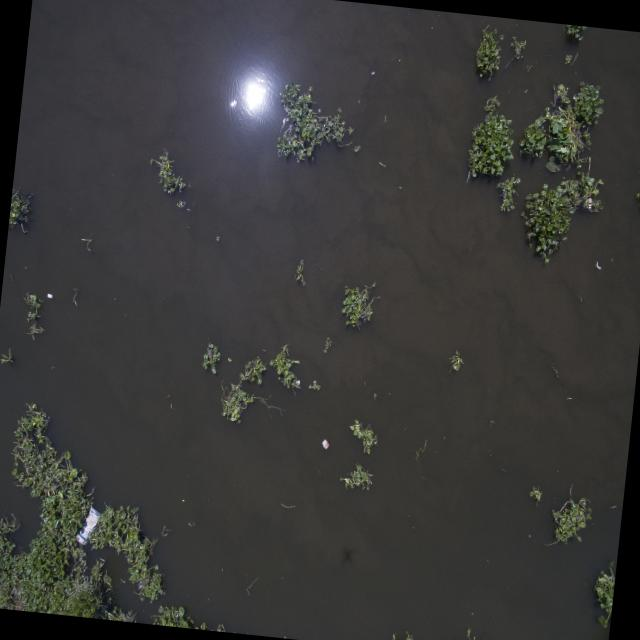Plastic: (72, 503, 104, 547), (320, 437, 330, 449)
